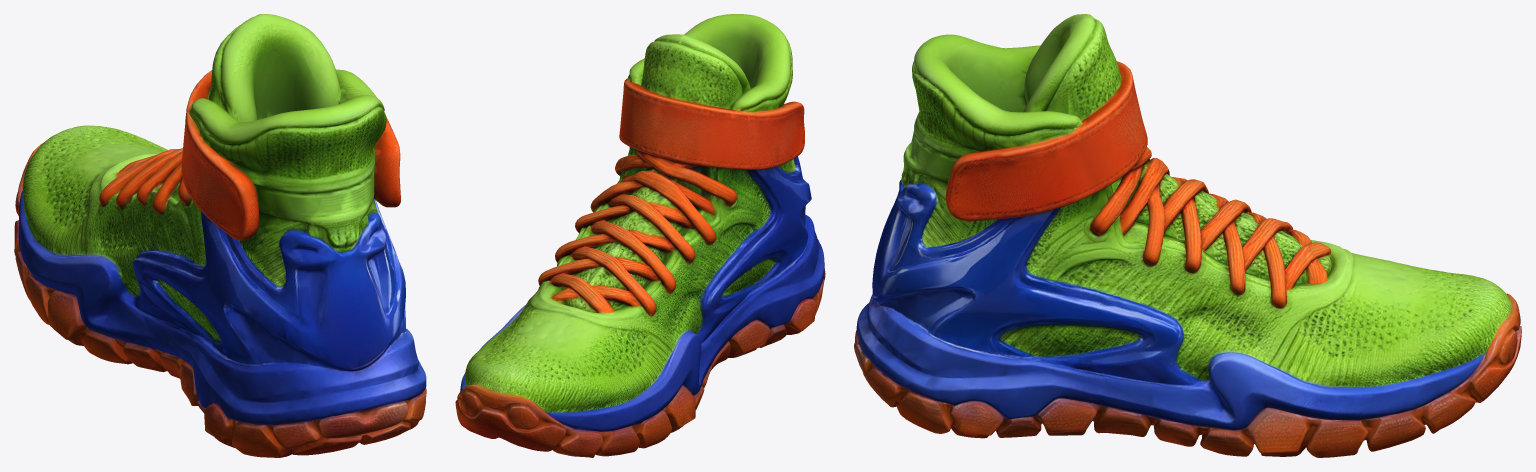
The model's file is frog.glb.
The picture shows the model from 3 angles, left to right: view 1: azimuth 30°, elevation 25°; view 2: azimuth 150°, elevation 25°; view 3: azimuth 270°, elevation 25°; orthographic projection. The views are drawn at different scales.
Visible parts, largest first — view 1: tripo_node_05edce46-c2e2-4a1d-b501-c9e7b277d417; view 2: tripo_node_05edce46-c2e2-4a1d-b501-c9e7b277d417; view 3: tripo_node_05edce46-c2e2-4a1d-b501-c9e7b277d417.
Part boxes in pixels (box(x1,y1,x2,y2)): tripo_node_05edce46-c2e2-4a1d-b501-c9e7b277d417: box(14, 14, 426, 457); tripo_node_05edce46-c2e2-4a1d-b501-c9e7b277d417: box(455, 14, 825, 457); tripo_node_05edce46-c2e2-4a1d-b501-c9e7b277d417: box(854, 14, 1521, 457).
Size of the model in its own units: 0.4095 by 0.6446 by 0.9995.
Materials: 1 (1 with a texture image).
